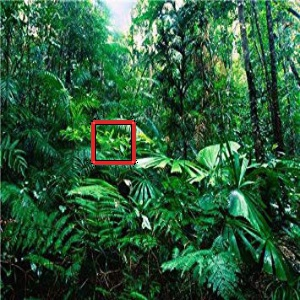square: (90, 118, 138, 166)
